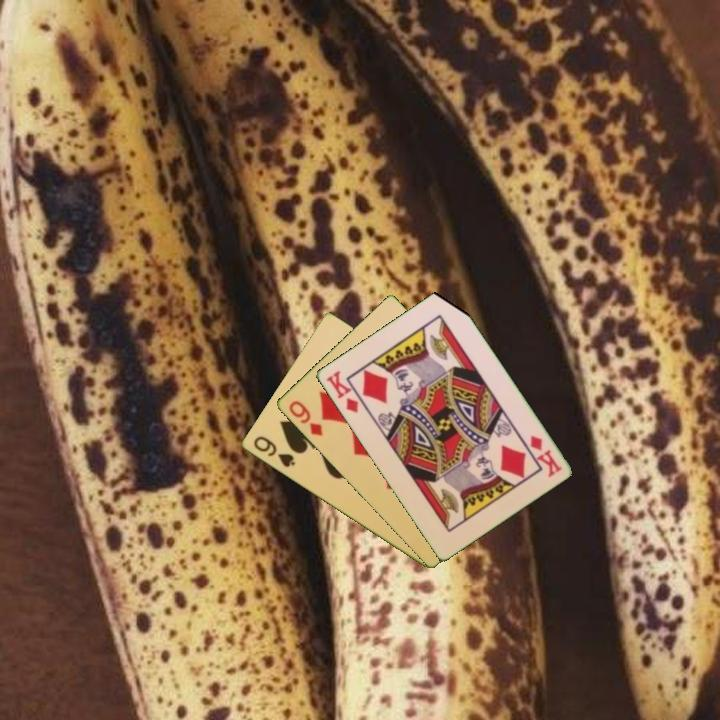9d: (285, 397, 326, 439)
9s: (249, 432, 298, 470)
Kd: (322, 367, 361, 416), (526, 431, 564, 479)
